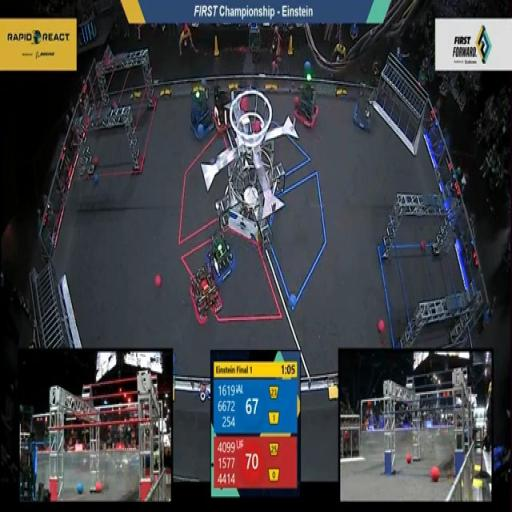robot: (188, 263, 225, 327), (206, 226, 238, 288), (292, 67, 322, 130), (187, 76, 214, 141), (210, 82, 240, 136), (351, 81, 376, 136)
